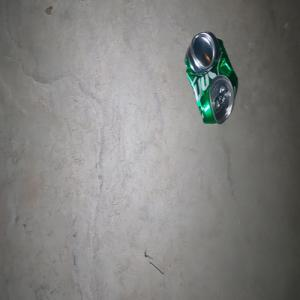SodaCan: (184, 30, 238, 124)
